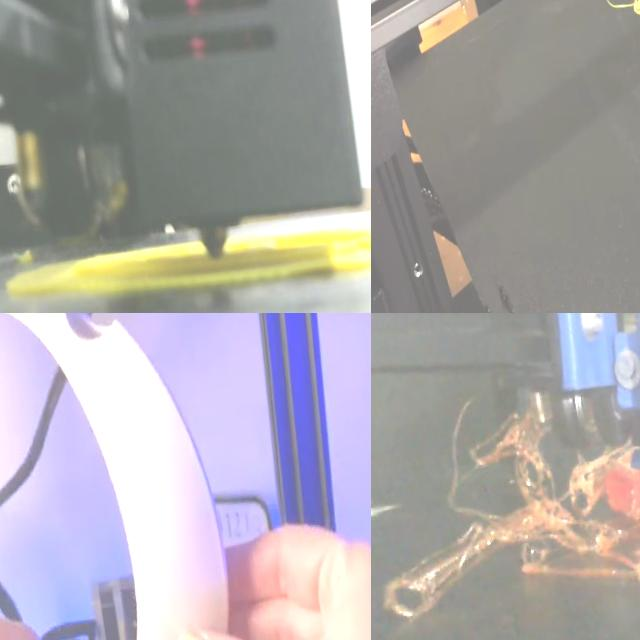spaghetti: (384, 393, 640, 620)
